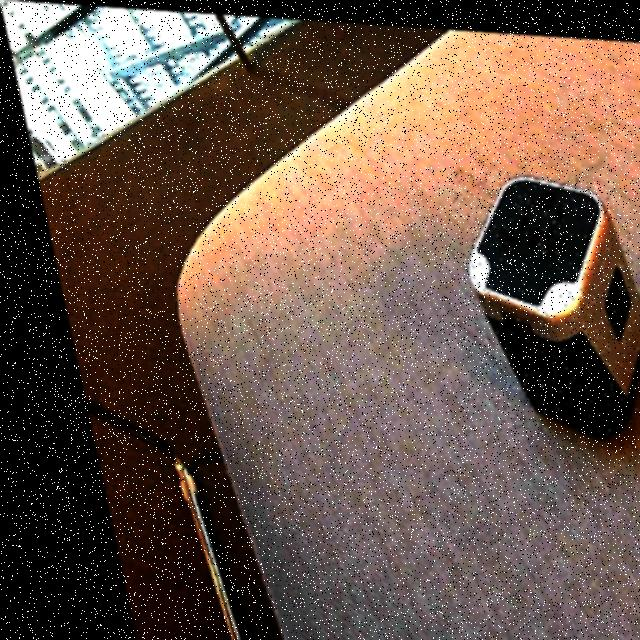adapter: (438, 163, 640, 434)
